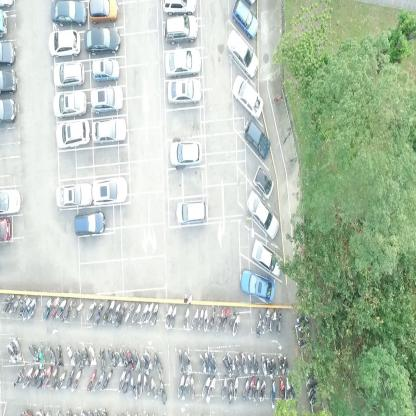car: (245, 189, 280, 240), (225, 29, 259, 78), (230, 73, 264, 120), (250, 237, 284, 280), (237, 268, 275, 305), (162, 14, 200, 45), (242, 118, 270, 160), (55, 117, 90, 150), (83, 27, 121, 56), (232, 0, 258, 41), (164, 49, 202, 77), (91, 178, 129, 206), (54, 183, 92, 209), (47, 30, 81, 58), (90, 86, 124, 114), (167, 141, 202, 168), (51, 0, 87, 26), (167, 79, 202, 105), (173, 200, 208, 225), (51, 92, 86, 117), (91, 119, 127, 143), (52, 62, 85, 88), (87, 0, 120, 25), (73, 212, 106, 235), (252, 165, 274, 199), (91, 59, 120, 82), (162, 0, 198, 16), (0, 188, 23, 212), (0, 68, 18, 94), (0, 98, 18, 122), (0, 41, 16, 66), (0, 216, 14, 244), (0, 10, 10, 37), (0, 0, 16, 11)
